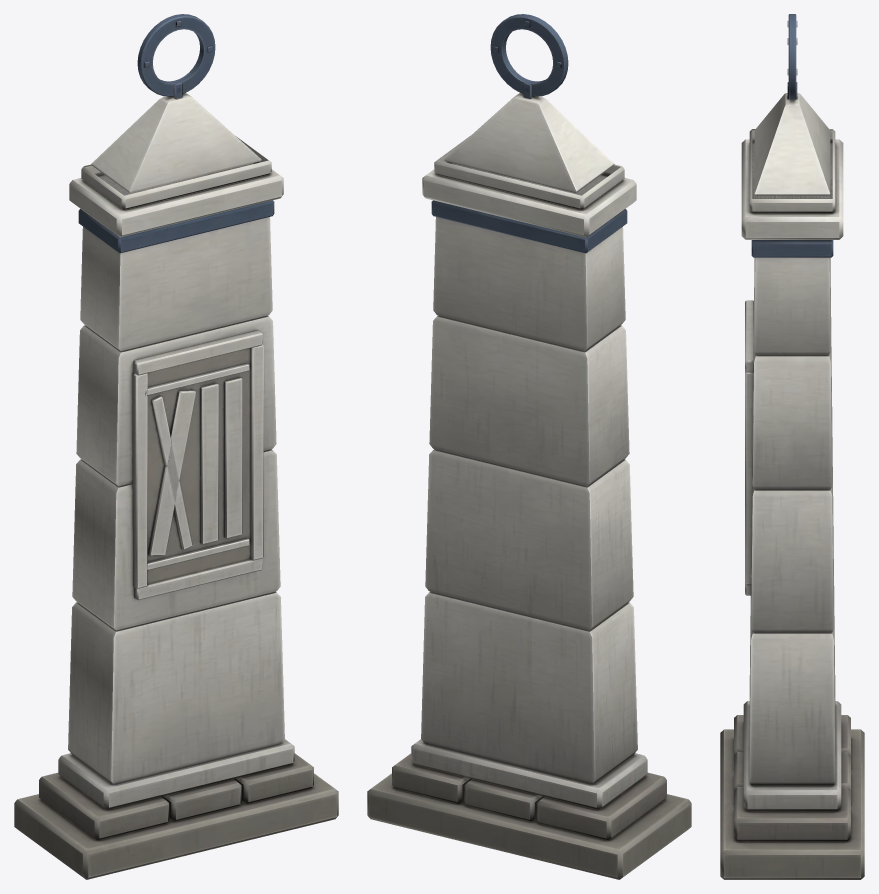
The model's file is noon_stone.glb.
3 renders of one model, left to right at view 1: azimuth 30°, elevation 25°; view 2: azimuth 150°, elevation 25°; view 3: azimuth 270°, elevation 25°, orthographic.
Visible parts, largest first — view 1: noon_stone_body; view 2: noon_stone_body; view 3: noon_stone_body.
Boxes of the visible parts, box(x1,y1,x2,y2) form: noon_stone_body: box(14, 14, 338, 879); noon_stone_body: box(367, 14, 691, 879); noon_stone_body: box(720, 14, 864, 879).
Bounding box in the file's own units: 3 × 9.06 × 1.48.
1 material, 1 textured.
